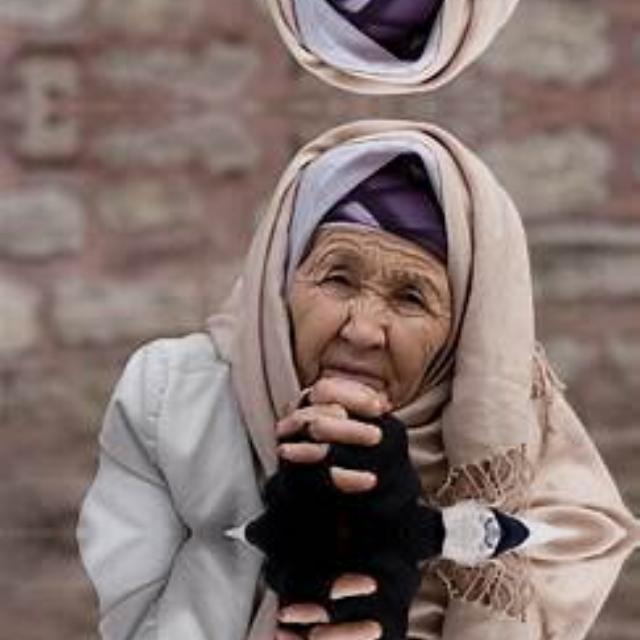person: (126, 123, 580, 533), (126, 532, 580, 640), (126, 0, 580, 89)
